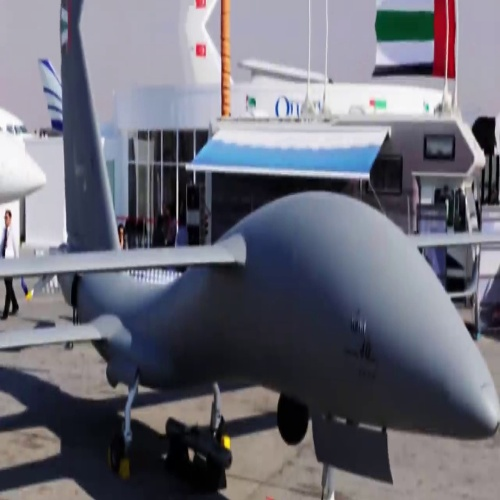uav226: (1, 1, 500, 481)
